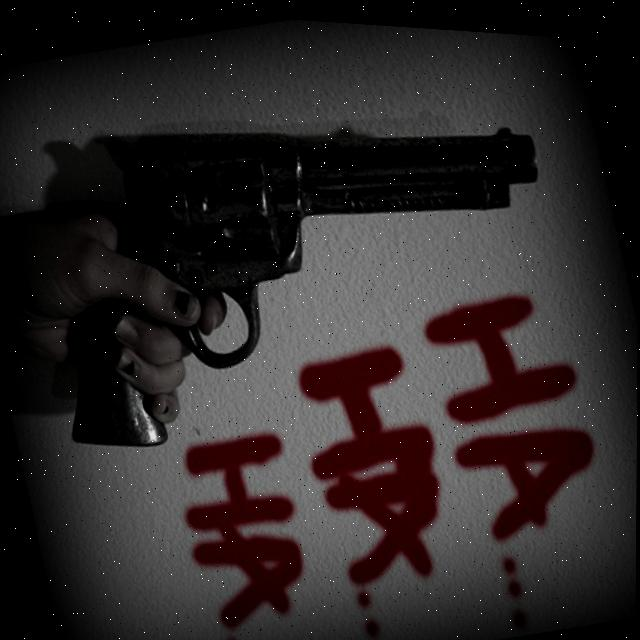pistol: (66, 33, 577, 410)
